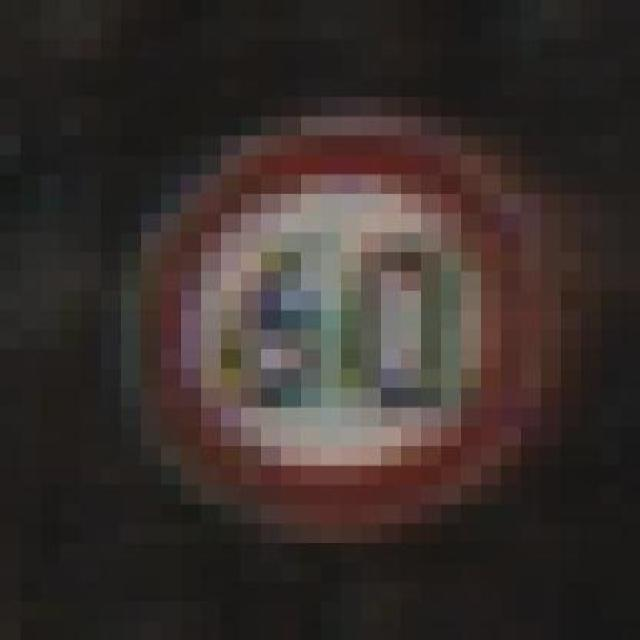forb_speed_over_60: (137, 121, 526, 521)
